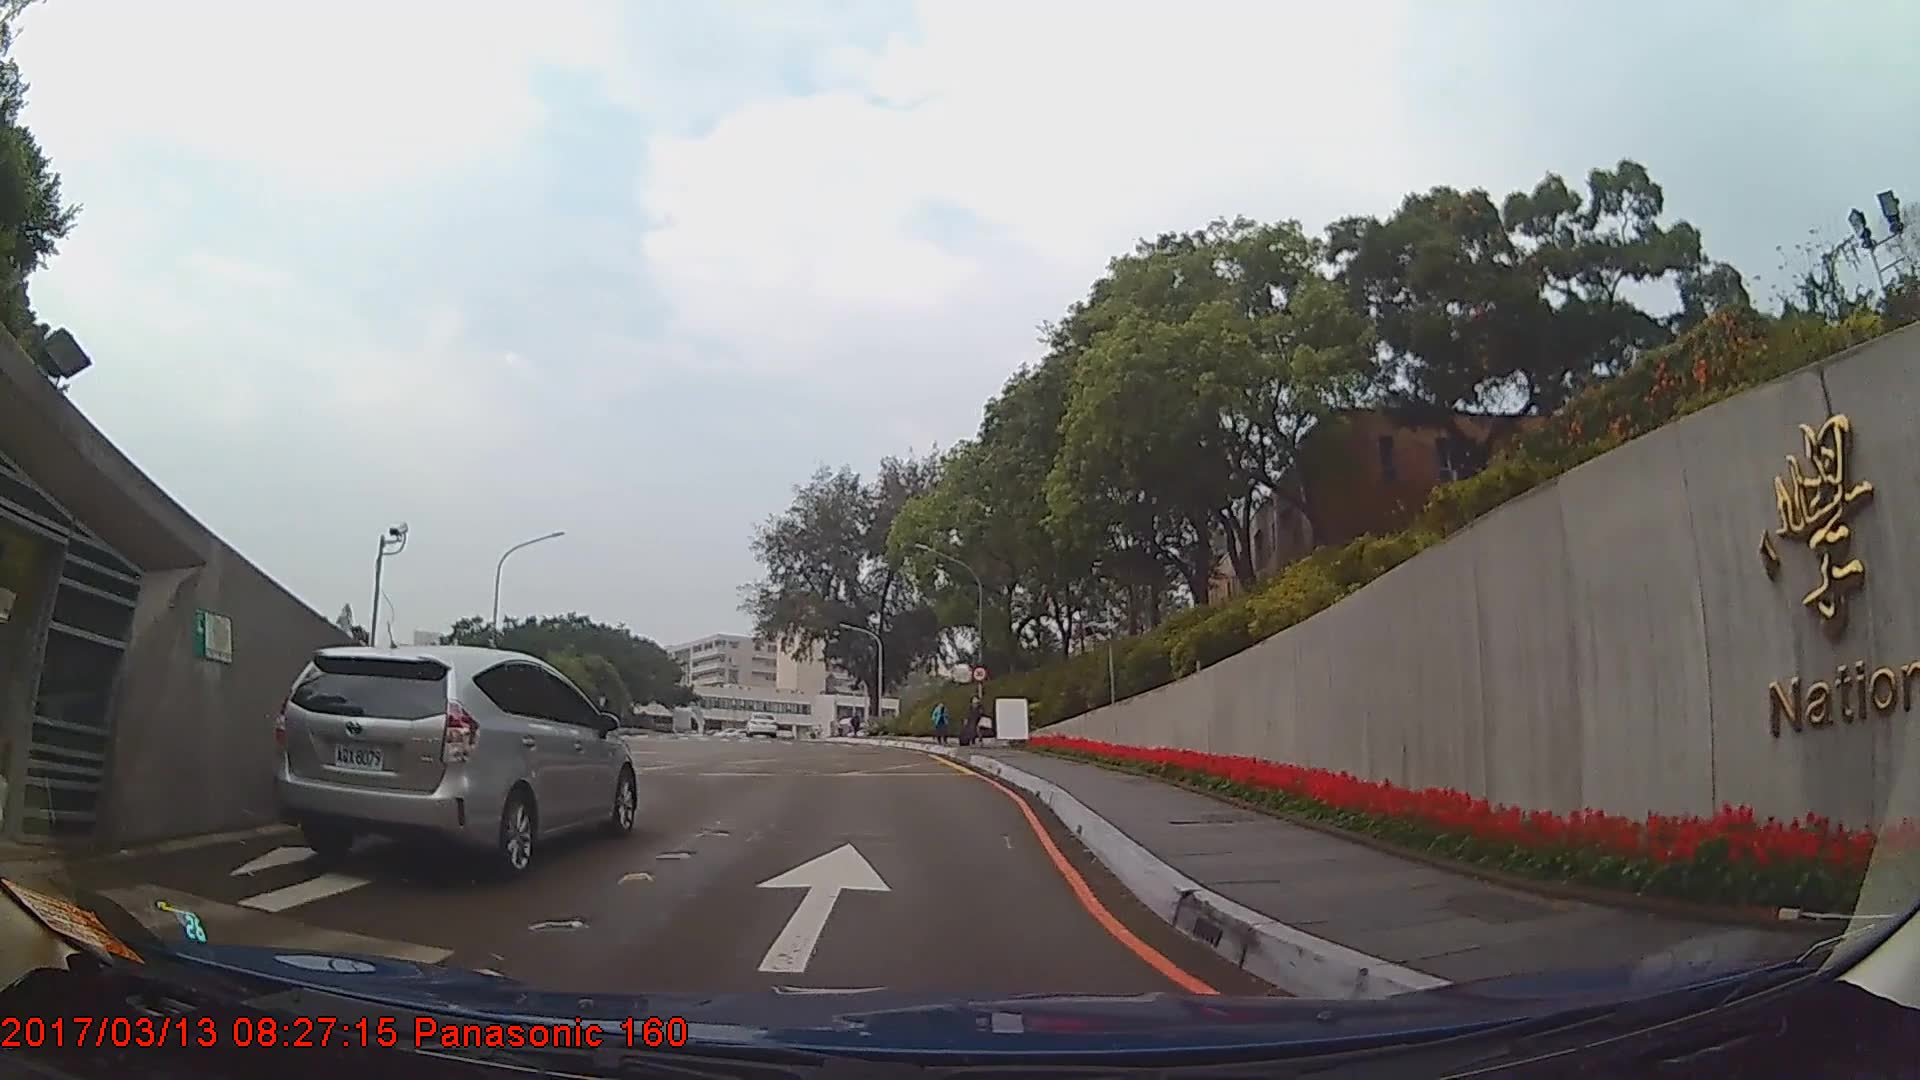pedestrian: (959, 694, 993, 748), (931, 703, 952, 749)
vehicle: (270, 644, 638, 885), (741, 709, 777, 737)
